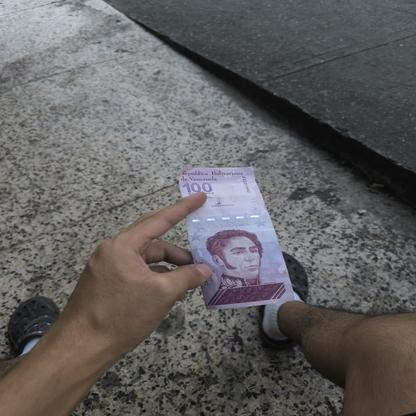one_hundred-front-vef: (178, 166, 295, 312)
